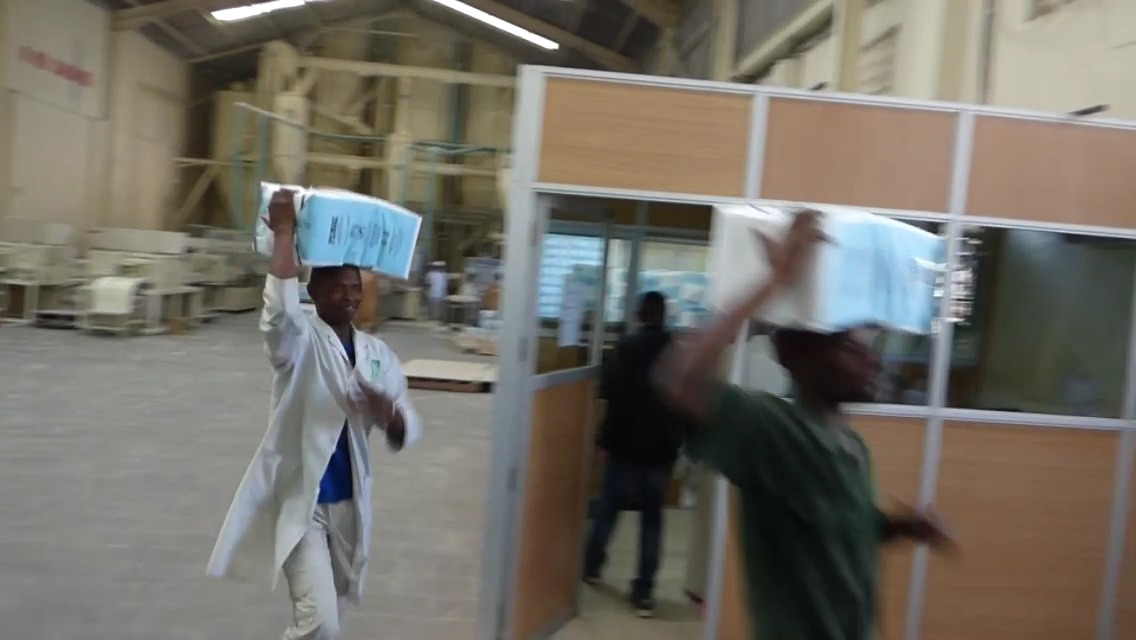wheat_flour_blue_label: (710, 207, 938, 331), (261, 191, 416, 269)
